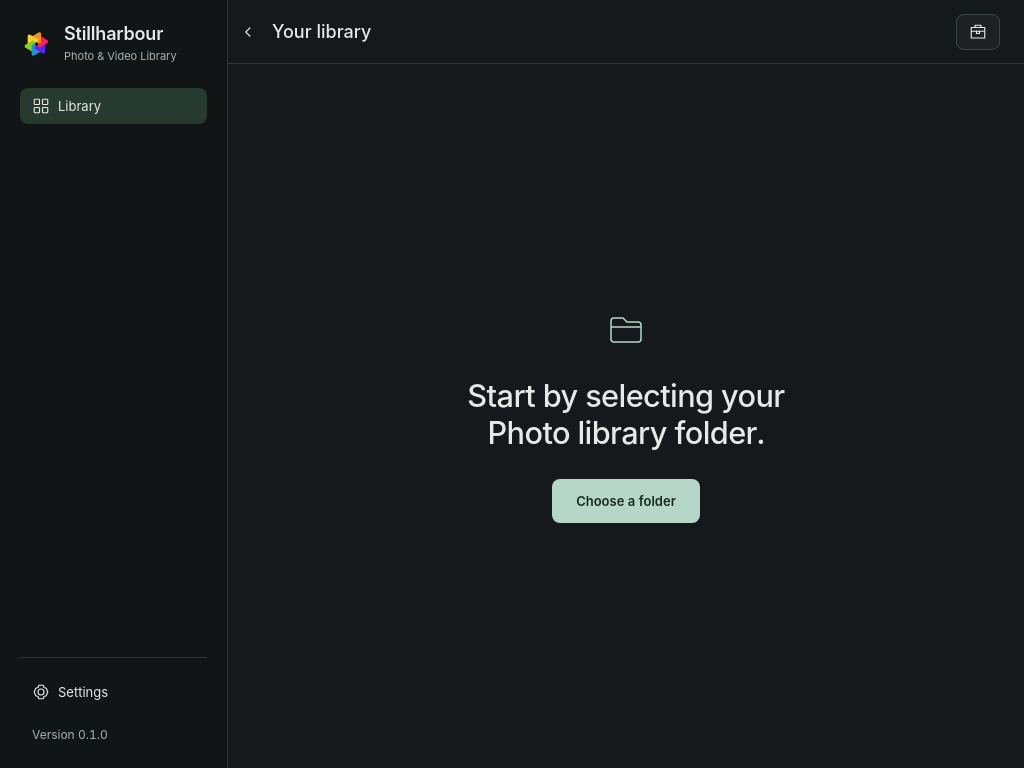
native library onboarding › retains the selected folder and reports a failed save without fake success
Click the button "Choose a folder" at (626, 501), box x1=552 y1=479 x2=700 y2=523
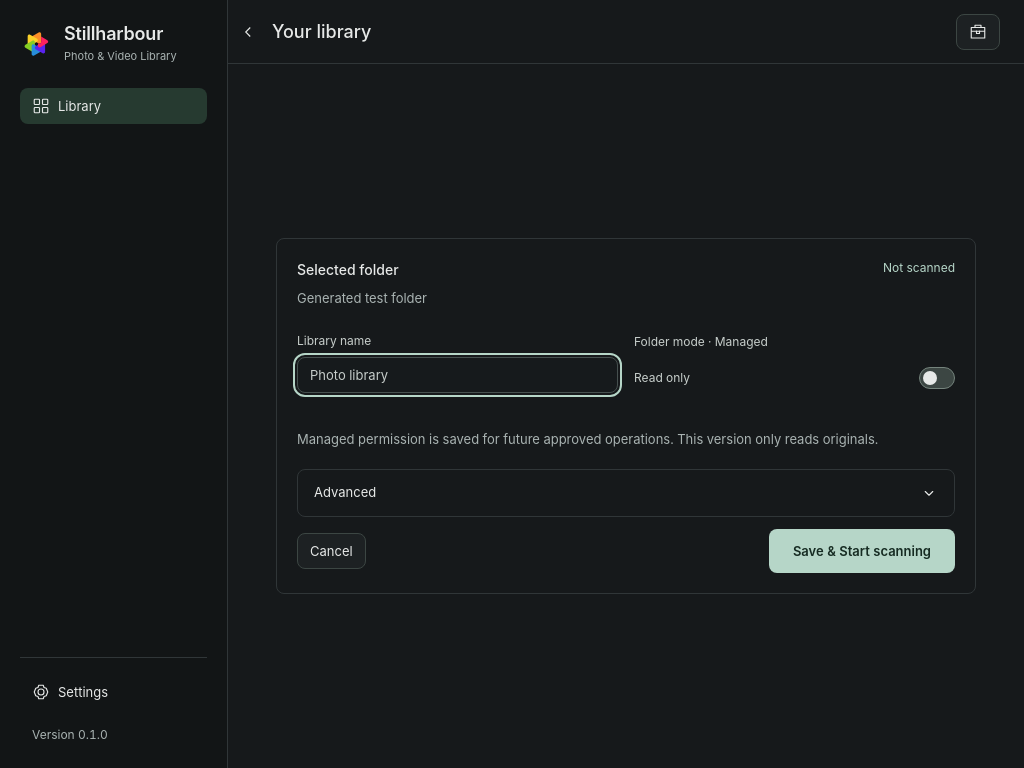
Click the button "Save & Start scanning" at (862, 551), box x1=769 y1=529 x2=955 y2=573
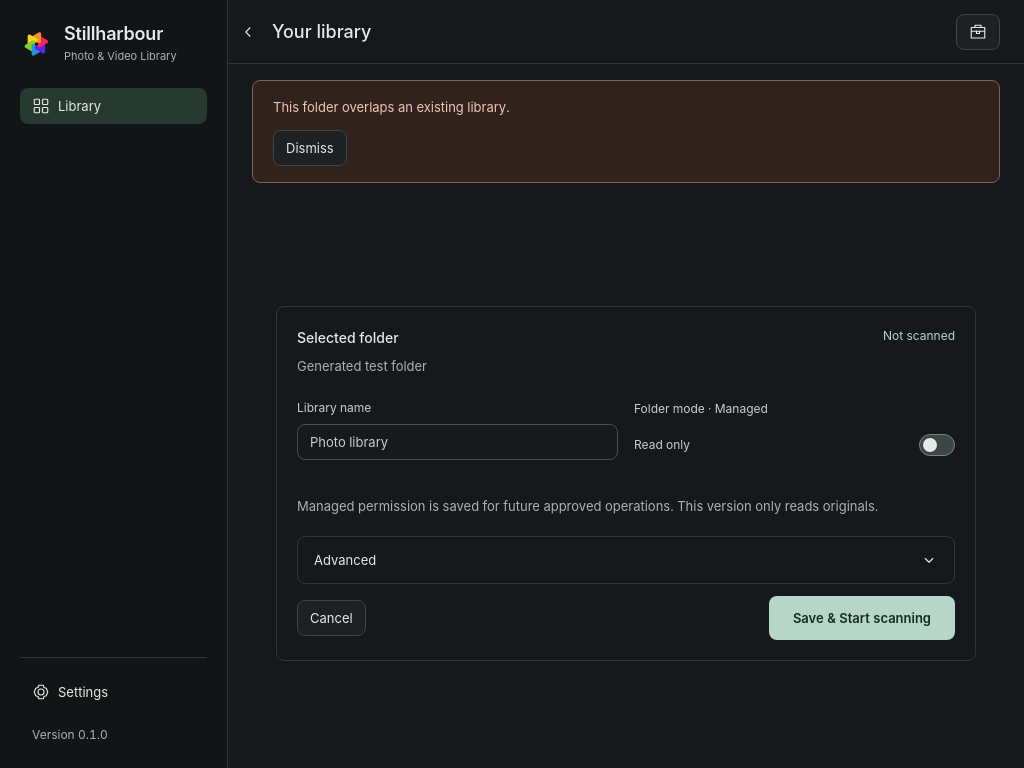
Check: the button "Save & Start scanning" is enabled, box x1=769 y1=596 x2=955 y2=640
Check: the text "Not scanned" is shown, box x1=883 y1=326 x2=955 y2=344
Check: the message shows "This folder overlaps an existing library.", box x1=273 y1=99 x2=510 y2=115
